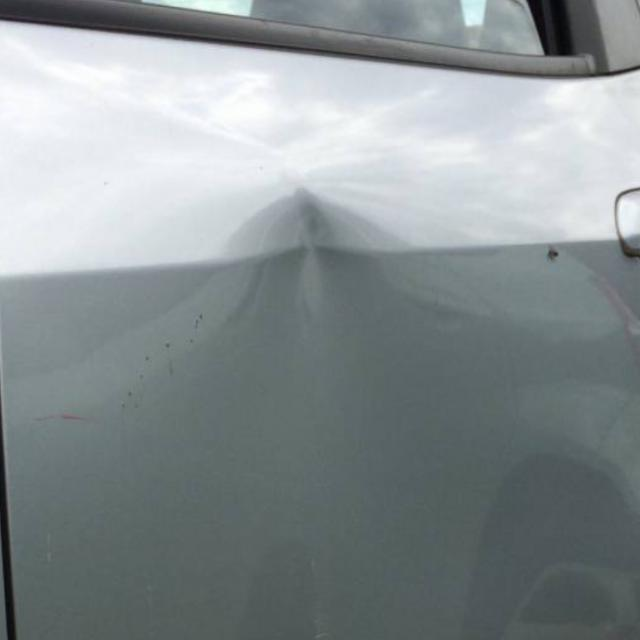dents: (205, 176, 442, 404)
